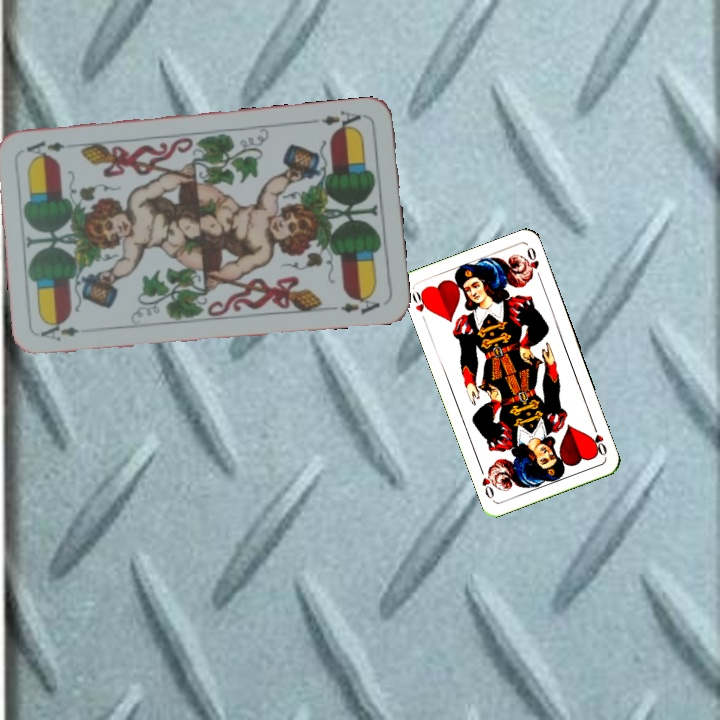EA: (317, 106, 367, 134), (37, 319, 82, 344)
HO: (408, 286, 433, 325), (589, 420, 609, 458)
